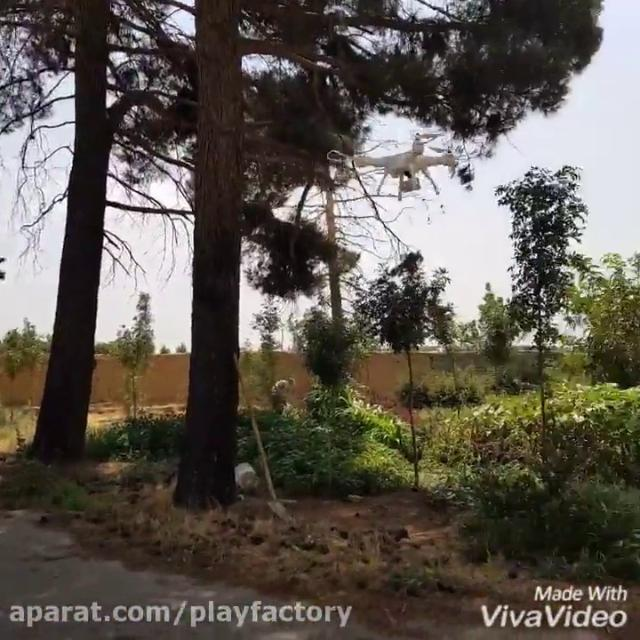drone: (325, 129, 463, 201)
